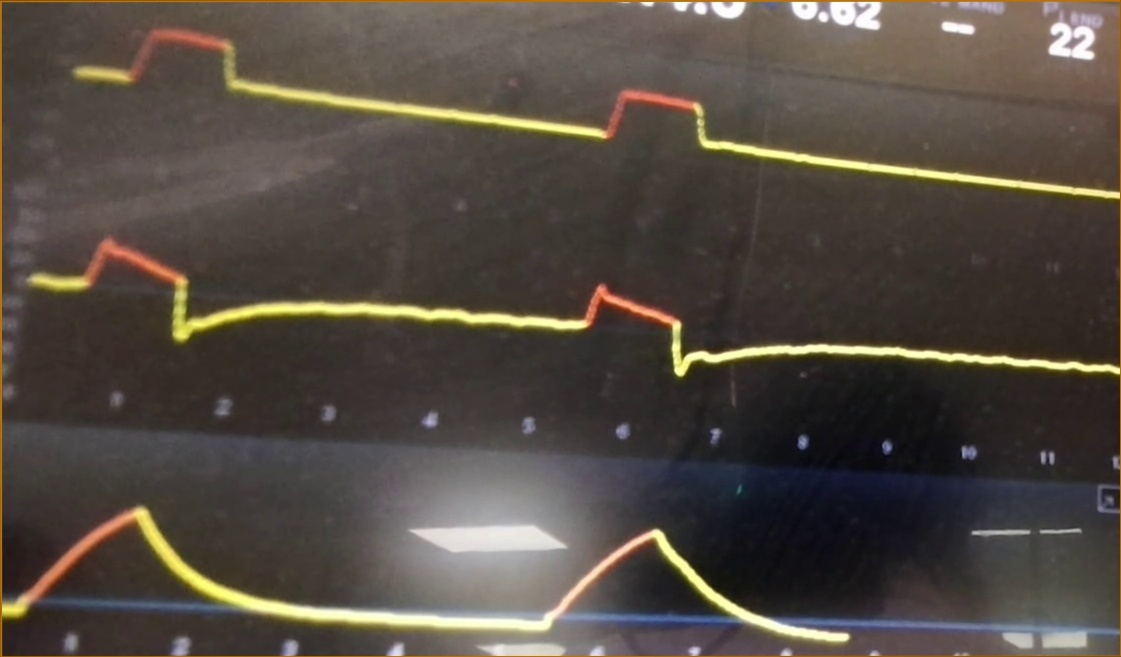Premature_cycling Flow: (33, 229, 1113, 388)
Premature_cycling Volume: (5, 464, 850, 643)
